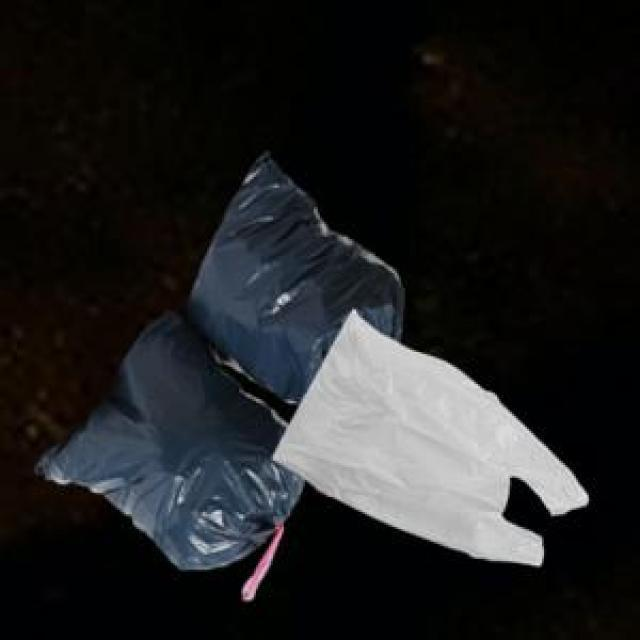miscellaneous trash: (32, 147, 399, 595)
